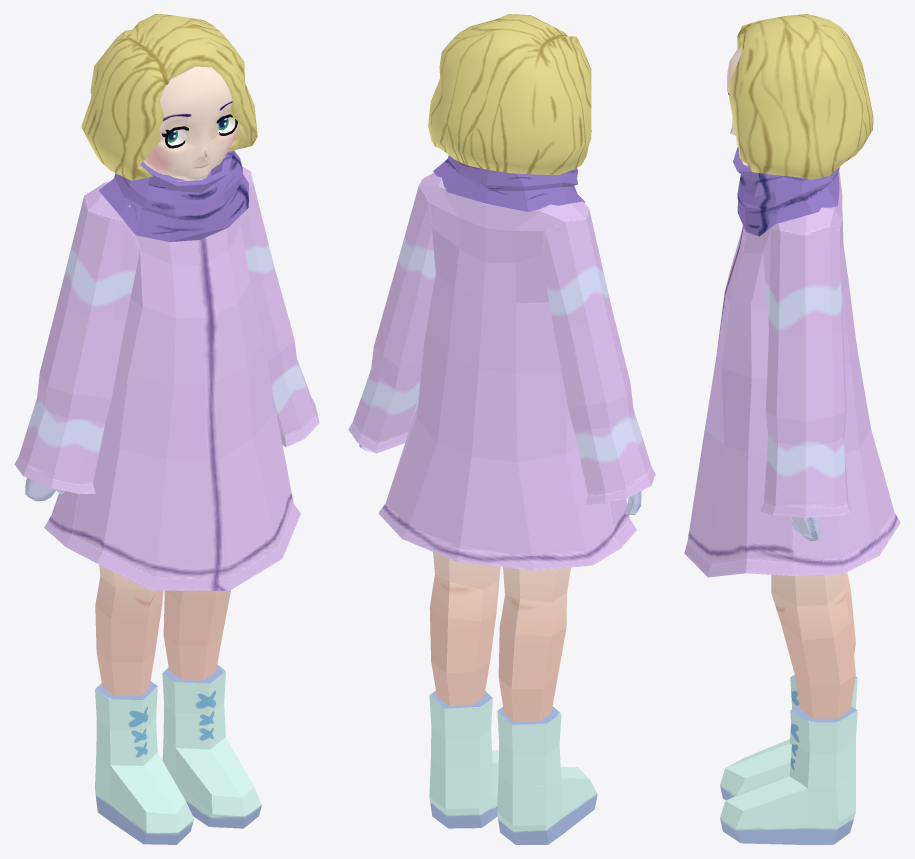
3 views of the same model, side by side, from view 1: azimuth 30°, elevation 25°; view 2: azimuth 150°, elevation 25°; view 3: azimuth 270°, elevation 25° (orthographic).
Visible parts, largest first — view 1: Plane, Cylinder.001, Plane.005, Cylinder, Cylinder.002, Plane.002; view 2: Plane, Plane.005, Cylinder, Cylinder.001, Cylinder.002; view 3: Plane, Plane.005, Cylinder.001, Cylinder, Cylinder.002, Plane.001.
Part boxes in pixels (x1,y1,x2,y2): Plane: (14,166,319,590); Cylinder.001: (95,665,261,844); Plane.005: (81,14,257,180); Cylinder: (95,565,230,695); Cylinder.002: (99,150,248,241); Plane.002: (143,66,239,180); Plane: (348,172,655,570); Plane.005: (428,14,591,174); Cylinder: (429,552,570,721); Cylinder.001: (429,690,597,844); Cylinder.002: (433,155,584,211); Plane: (684,171,900,577); Plane.005: (729,14,873,179); Cylinder.001: (720,675,857,844); Cylinder: (771,572,855,718); Cylinder.002: (733,147,839,236); Plane.001: (788,516,822,541).
Size of the model in its own units: 2.03 by 5.25 by 1.29.
9 materials, 9 textured.
